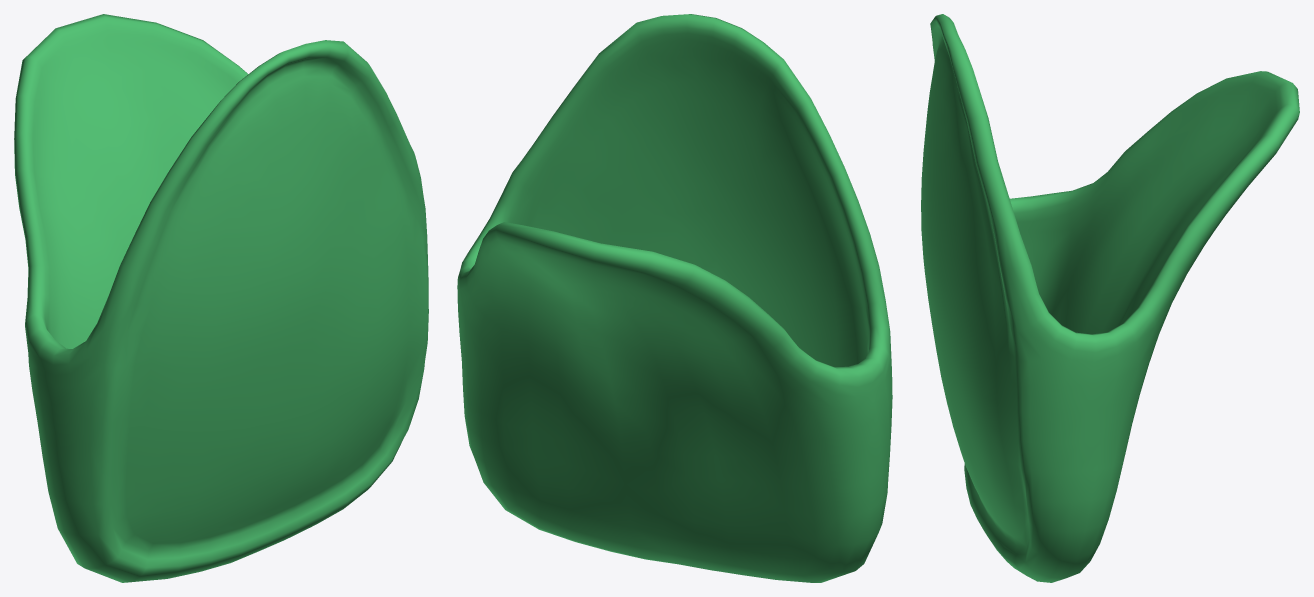
File: TR1_Enamel_Prongs.001 3.glb
3 views of the same model, side by side, from view 1: azimuth 30°, elevation 25°; view 2: azimuth 150°, elevation 25°; view 3: azimuth 270°, elevation 25° (orthographic).
Parts seen in each view (by area): view 1: TR1_Enamel_Prongs.001; view 2: TR1_Enamel_Prongs.001; view 3: TR1_Enamel_Prongs.001.
Part boxes in pixels (x1,y1,x2,y2): TR1_Enamel_Prongs.001: [14, 14, 428, 582]; TR1_Enamel_Prongs.001: [457, 14, 892, 582]; TR1_Enamel_Prongs.001: [921, 14, 1299, 582].
Bounding box in the file's own units: 0.8668 × 1.1 × 0.7236.
